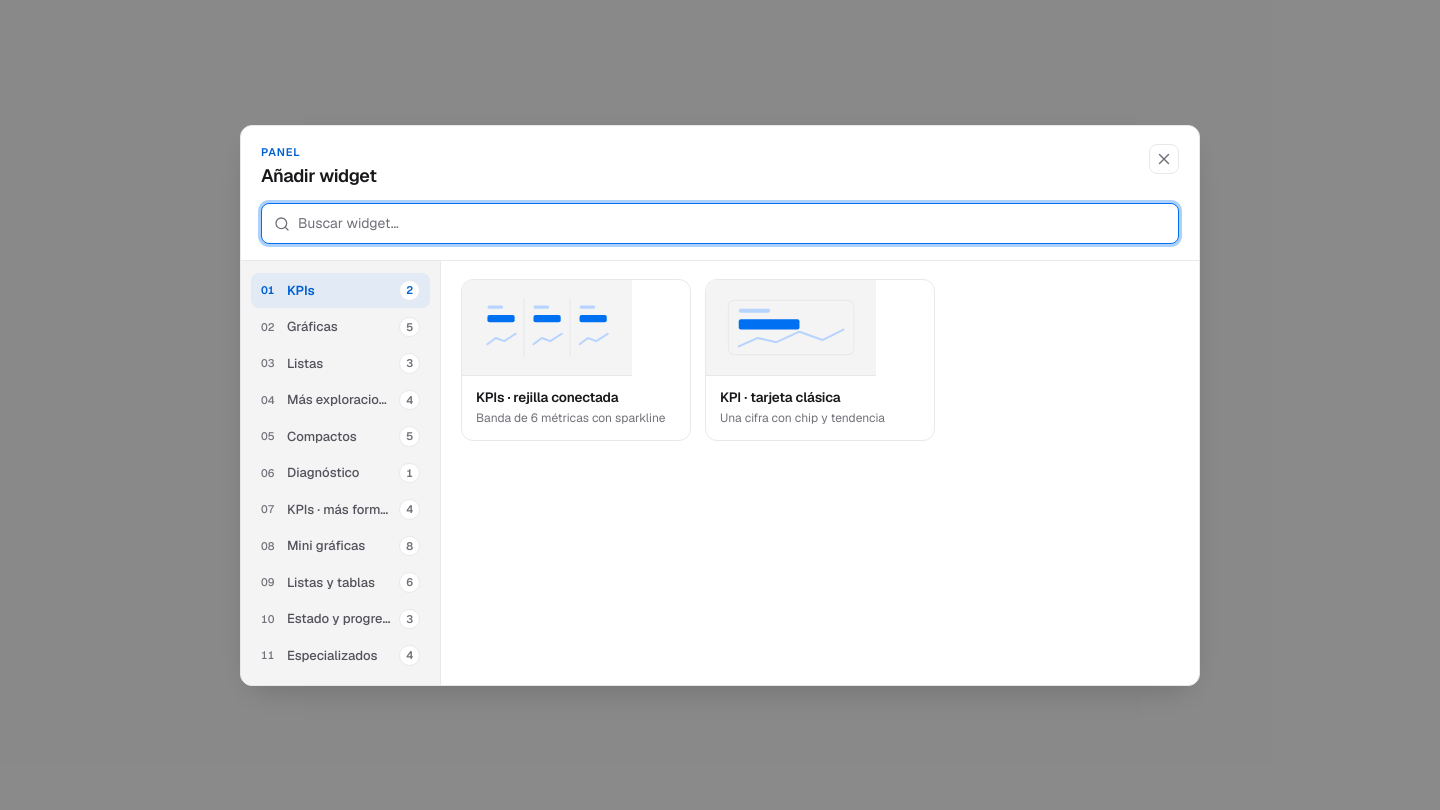
it: WidgetGalleryModal › filtra por el buscador (nombre o descripción)
Type "hora" into the field with test id "widget-gallery-search" at (732, 224), box left=298, top=204, right=1166, bottom=243
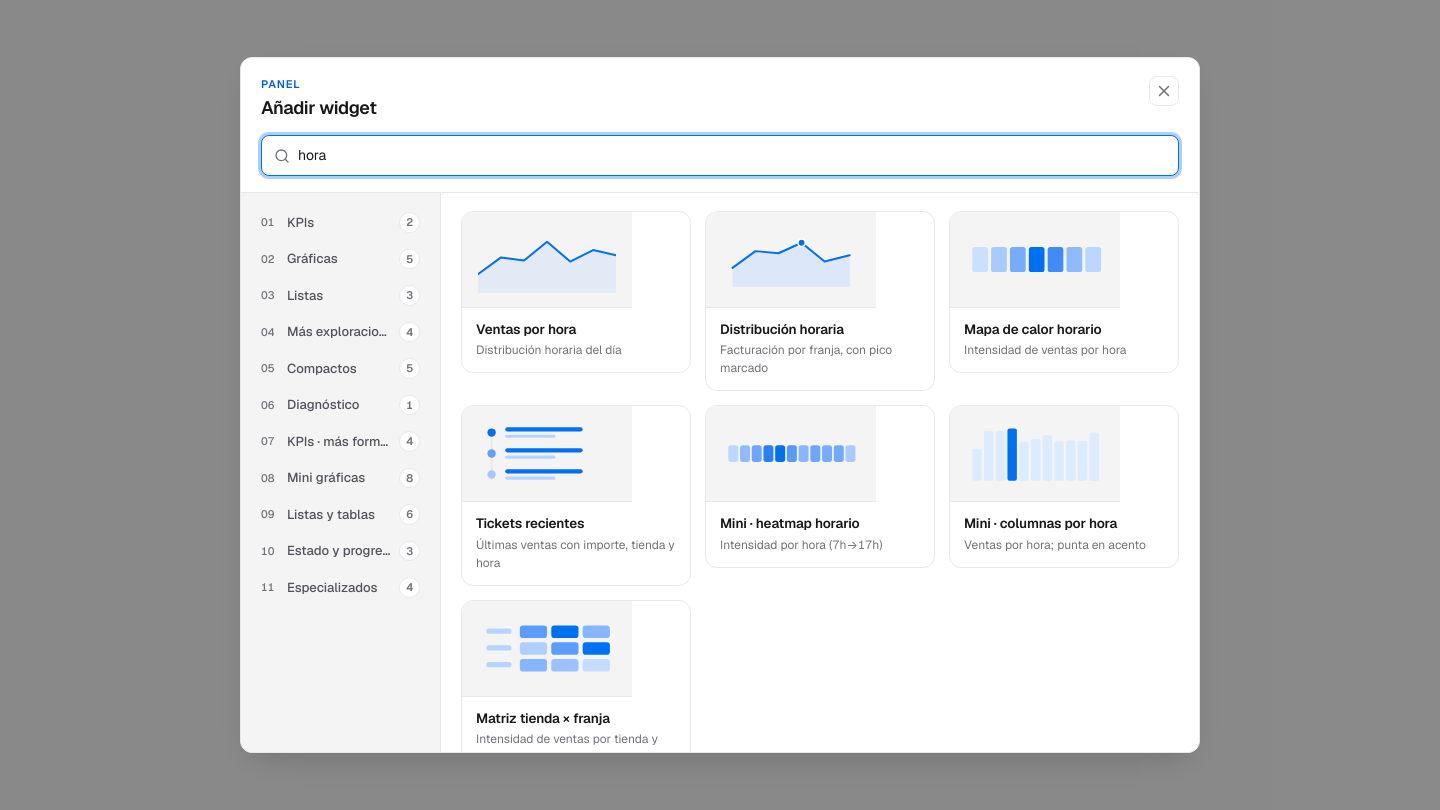
Expected: the button with test id "widget-gallery-card-dash-hour" is shown, left=461, top=211, right=691, bottom=374
